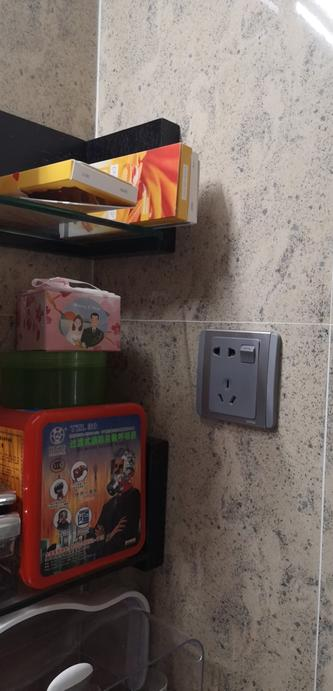switch: (240, 342, 255, 362)
